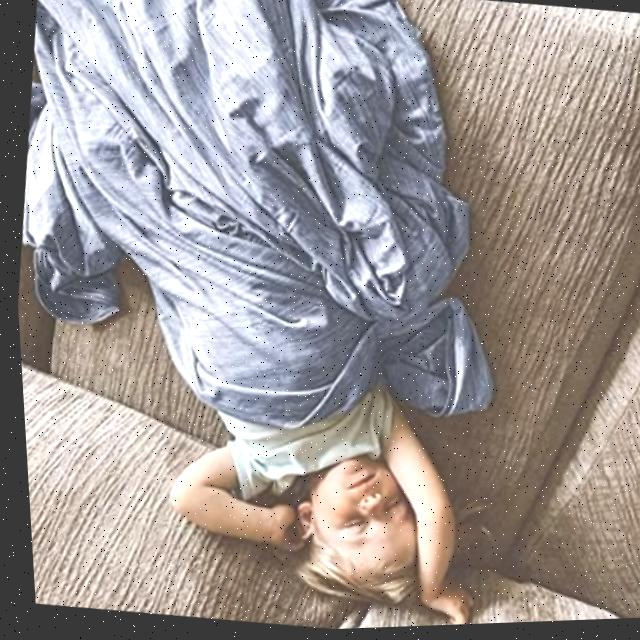sleeping-person: (0, 0, 559, 640)
